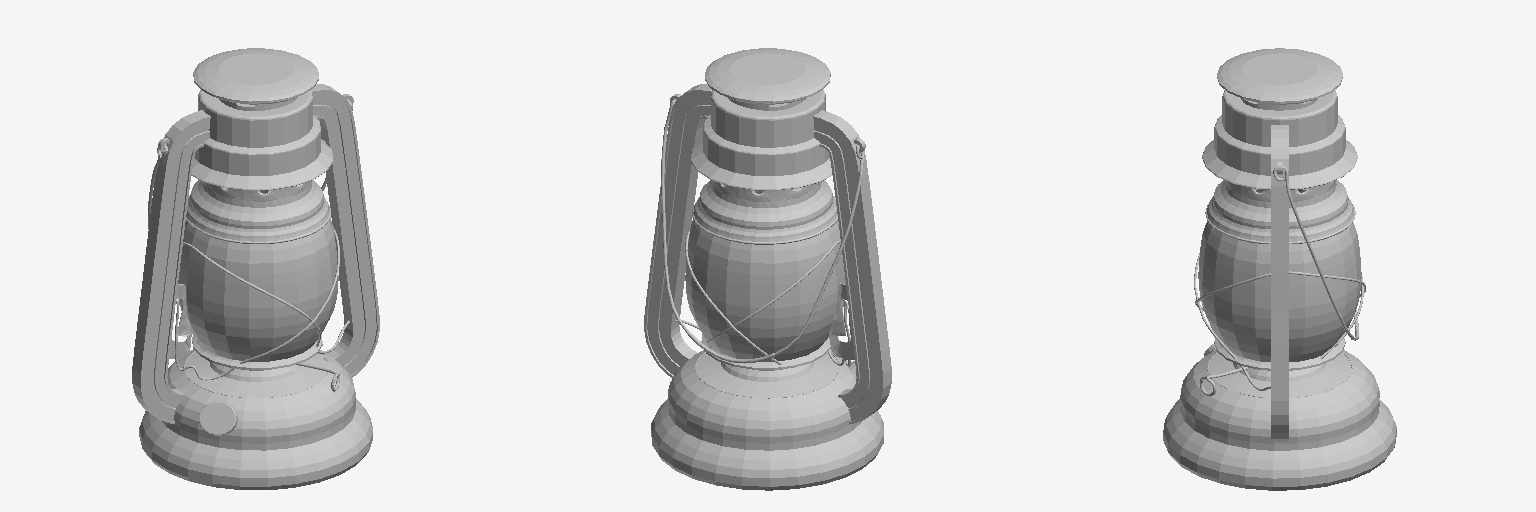
The model's file is lantern.obj.
The picture shows the model from 3 angles: view 1: azimuth 30°, elevation 25°; view 2: azimuth 150°, elevation 25°; view 3: azimuth 270°, elevation 25°; orthographic projection.
Parts seen in each view (by area): view 1: lantern; view 2: lantern; view 3: lantern.
Part boxes in pixels (bbox=[...]): lantern: bbox=[132, 48, 379, 489]; lantern: bbox=[644, 48, 891, 490]; lantern: bbox=[1163, 48, 1396, 490].
Bounding box in the file's own units: 1.96 × 2.92 × 1.66.